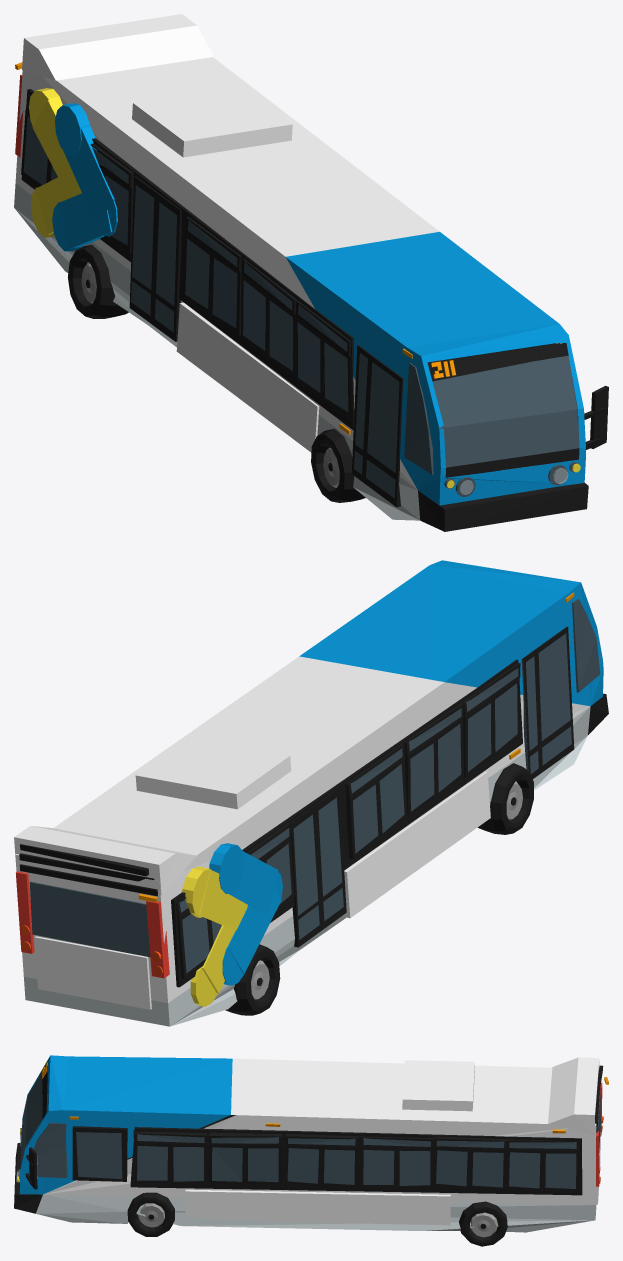
The model's file is bus_city.glb.
The picture shows the model from 3 angles, top to bottom: view 1: azimuth 30°, elevation 25°; view 2: azimuth 150°, elevation 25°; view 3: azimuth 270°, elevation 25°; orthographic projection. The views are drawn at different scales.
Visible parts, largest first — view 1: bus_city; view 2: bus_city; view 3: bus_city.
Boxes of the visible parts, x1,y1,x2,y2 form: bus_city: [14, 14, 608, 531]; bus_city: [14, 560, 608, 1026]; bus_city: [14, 1055, 608, 1246].
Size of the model in its own units: 2.68 by 2.98 by 11.
